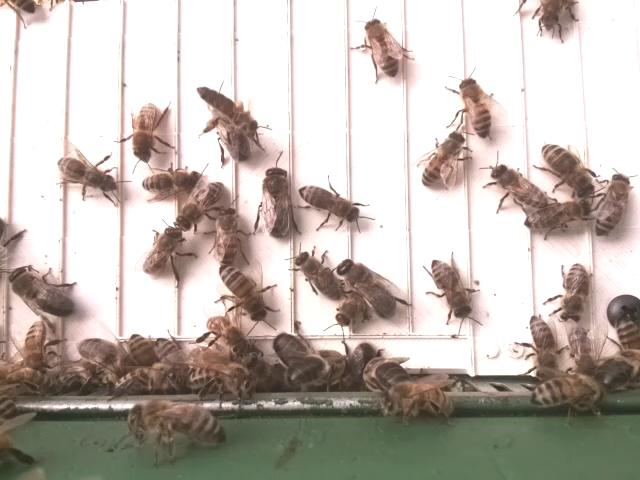Drone: (336, 255, 399, 322), (4, 263, 74, 320), (285, 347, 364, 392), (260, 164, 294, 241)
Worker: (539, 139, 596, 199), (217, 263, 270, 321), (296, 182, 363, 227), (428, 255, 475, 319), (54, 154, 124, 196), (490, 162, 548, 209), (420, 130, 465, 189), (294, 250, 344, 302), (529, 374, 605, 408), (176, 178, 225, 230), (592, 174, 631, 239), (140, 224, 185, 278), (363, 16, 401, 79), (522, 201, 596, 232), (526, 311, 560, 378), (459, 75, 494, 140), (558, 262, 593, 323), (130, 100, 162, 163), (139, 166, 205, 195), (214, 203, 243, 268), (20, 316, 53, 372)
